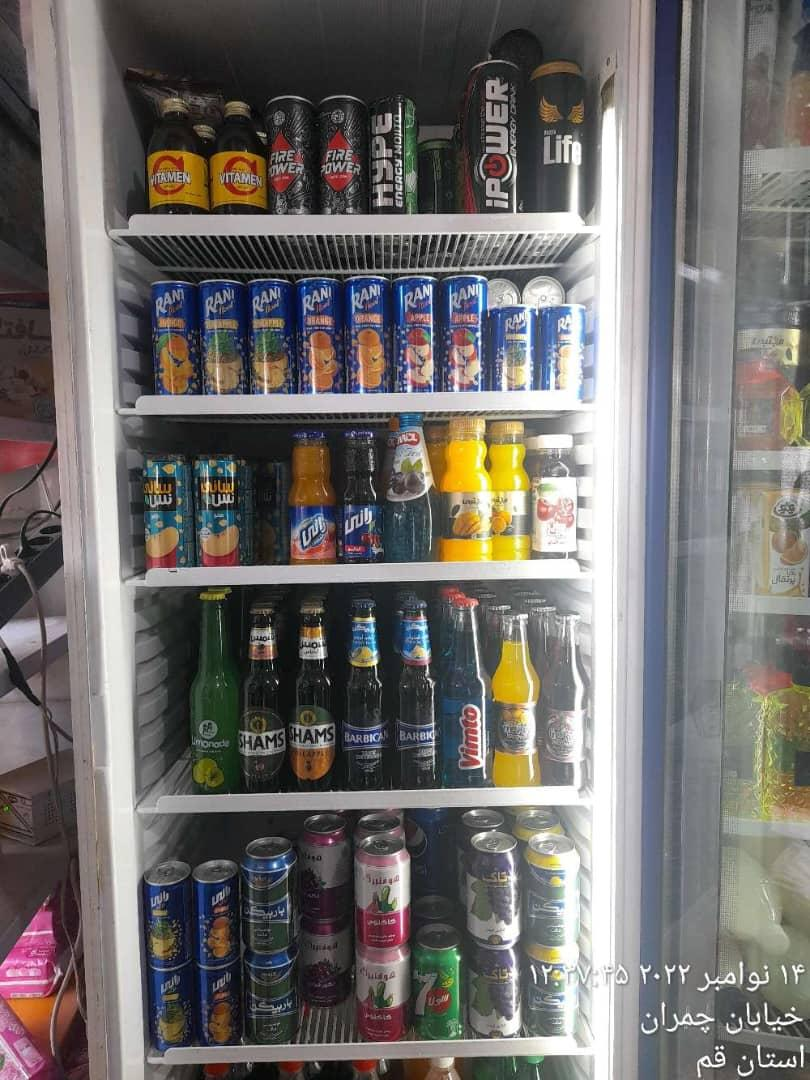Apple: (395, 281, 438, 393), (442, 281, 486, 389)
Pineapple: (249, 284, 299, 394), (201, 284, 247, 391), (496, 308, 537, 390)
